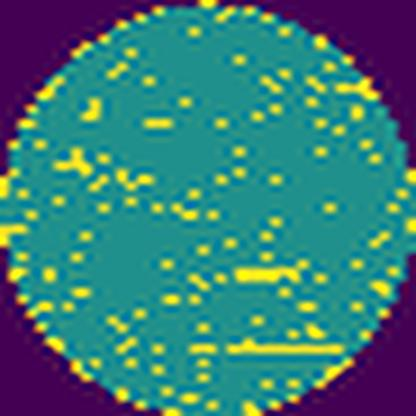Scratch: (225, 331, 351, 361)
